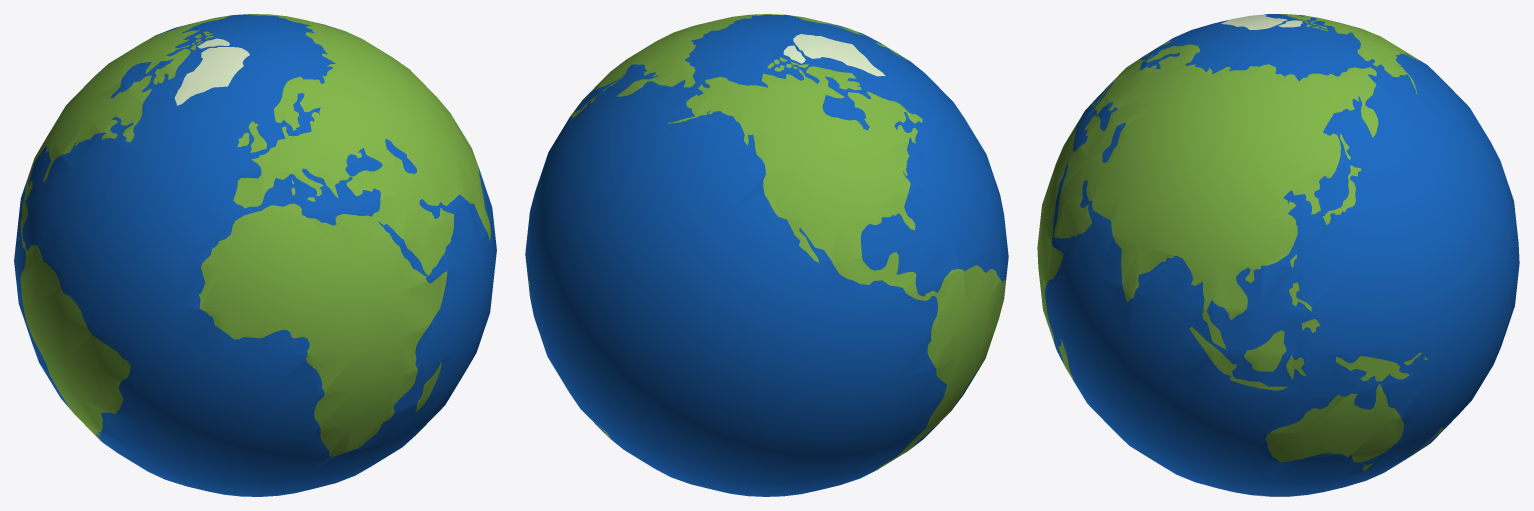
File: globe_showing_europe_africa.glb
3 renders of one model, left to right at view 1: azimuth 30°, elevation 25°; view 2: azimuth 150°, elevation 25°; view 3: azimuth 270°, elevation 25°, orthographic.
Visible parts, largest first — view 1: Sphere.392; view 2: Sphere.392; view 3: Sphere.392.
Boxes of the visible parts, bbox=[...] form: Sphere.392: bbox=[14, 14, 496, 496]; Sphere.392: bbox=[525, 14, 1008, 496]; Sphere.392: bbox=[1037, 14, 1519, 496].
Bounding box in the file's own units: 1.99 × 2 × 1.99.
1 material, 1 textured.
